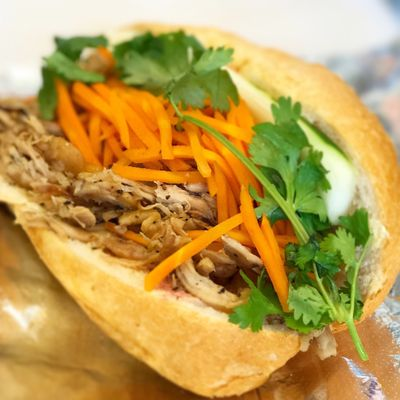curry: (115, 31, 238, 117), (37, 35, 110, 120)
